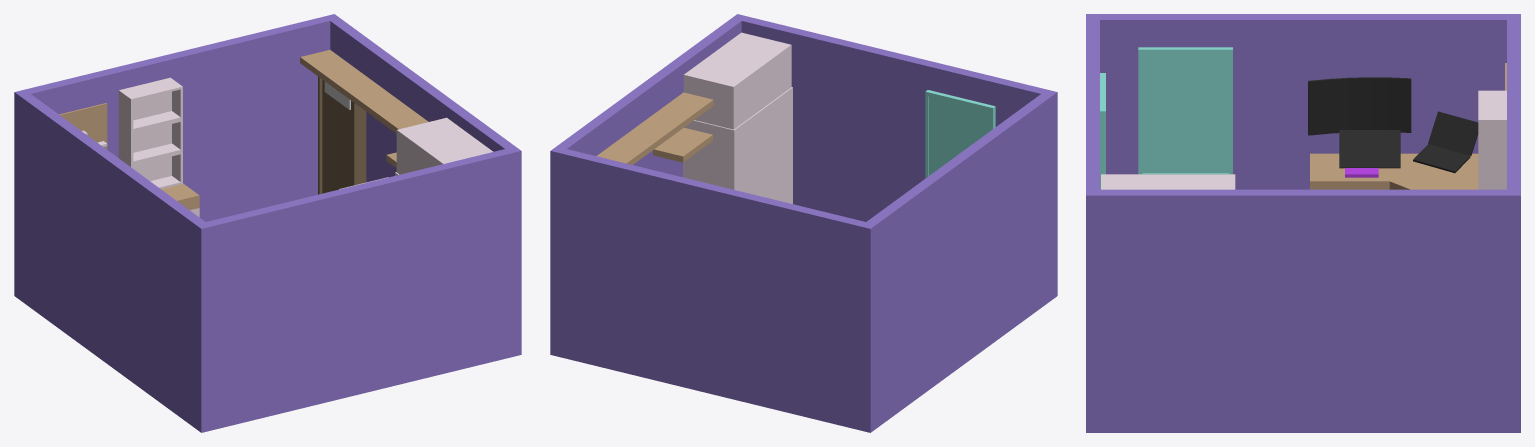
The model's file is level1_3.24_.fbx.
The picture shows the model from 3 angles, left to right: view 1: azimuth 30°, elevation 25°; view 2: azimuth 150°, elevation 25°; view 3: azimuth 270°, elevation 25°; orthographic projection. The views are drawn at different scales.
Visible parts, largest first — view 1: Wall.003, Wall.002, Wall.001, Wall.004, Door, Cabinet.007, Shelf.003, Shelf.002, Cabinet.005, Cabinet.006, Shelf.001, Table_Perfboard (+2 smaller); view 2: Wall.001, Wall.002, Wall.003, Wall.004, Cabinet.002, Cabinet.007, Wall_Windows.002, Cabinet.005, Cabinet.004, Cabinet.003; view 3: Wall.004, Wall.002, Wall_Windows.001, Table_MainScreen, Table, Table_Laptop, Table_DrawerScreen, Wall.001, Wall.003, Cabinet.007, Shelf.003, Shelf.002 (+1 smaller).
Part boxes in pixels (x1,y1,x2,y2): Wall.003: [206, 149, 511, 430]; Wall.002: [14, 89, 211, 432]; Wall.001: [25, 16, 330, 221]; Wall.004: [324, 14, 521, 357]; Door: [318, 76, 366, 194]; Cabinet.007: [396, 117, 493, 174]; Shelf.003: [118, 77, 182, 131]; Shelf.002: [118, 119, 182, 163]; Cabinet.005: [337, 77, 406, 119]; Cabinet.006: [300, 50, 366, 90]; Shelf.001: [118, 151, 182, 189]; Table_Perfboard: [59, 103, 107, 149]; Wall.001: [560, 149, 865, 430]; Wall.002: [860, 89, 1057, 432]; Wall.003: [741, 16, 1046, 221]; Wall.004: [550, 14, 747, 357]; Cabinet.002: [683, 87, 792, 203]; Cabinet.007: [683, 32, 791, 129]; Wall_Windows.002: [925, 90, 995, 178]; Cabinet.005: [604, 121, 673, 163]; Cabinet.004: [644, 92, 713, 134]; Cabinet.003: [653, 127, 712, 162]; Wall.004: [1086, 189, 1520, 432]; Wall.002: [1086, 14, 1520, 189]; Wall_Windows.001: [1138, 47, 1232, 174]; Table_MainScreen: [1308, 77, 1411, 135]; Table: [1310, 153, 1478, 189]; Table_Laptop: [1413, 111, 1478, 173]; Table_DrawerScreen: [1339, 130, 1400, 168]; Wall.001: [1507, 20, 1520, 189]; Wall.003: [1086, 20, 1099, 189]; Cabinet.007: [1101, 174, 1235, 189]; Shelf.003: [1478, 90, 1506, 157]; Shelf.002: [1478, 157, 1506, 189].
Bounding box in the file's own units: 460 × 280 × 465.
